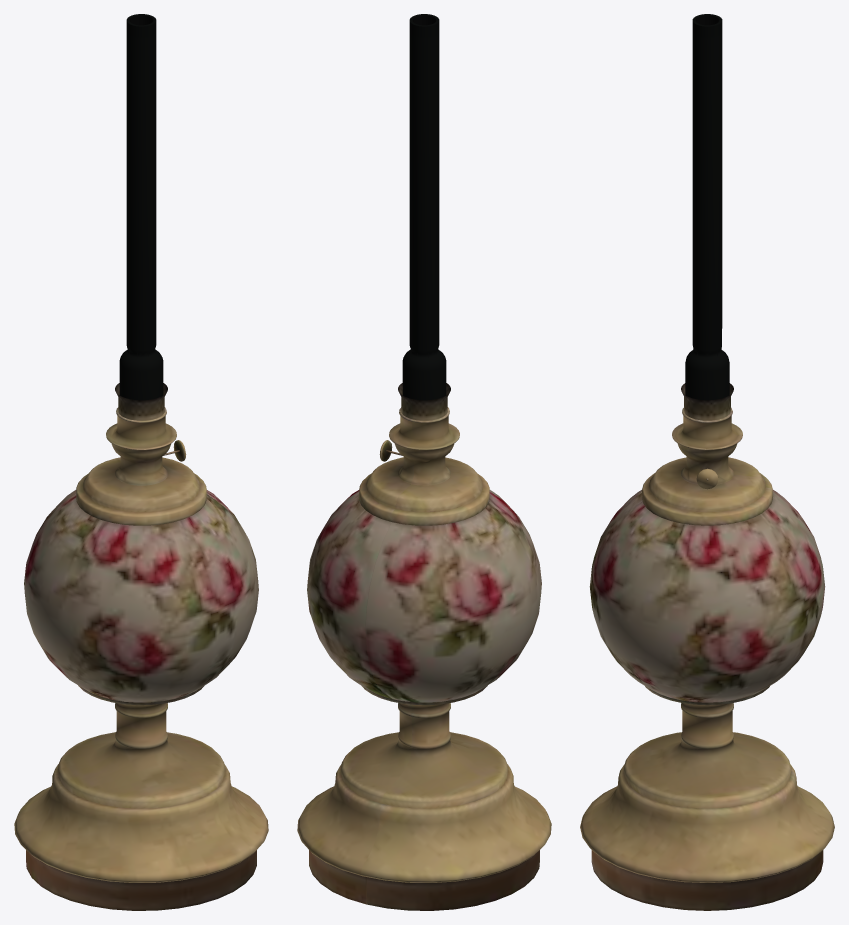
File: oil-lamp.glb
3 views of the same model, side by side, from view 1: azimuth 30°, elevation 25°; view 2: azimuth 150°, elevation 25°; view 3: azimuth 270°, elevation 25° (orthographic).
Visible parts, largest first — view 1: vintage_oil_lamp, vintage_oil_lamp_glass; view 2: vintage_oil_lamp, vintage_oil_lamp_glass; view 3: vintage_oil_lamp, vintage_oil_lamp_glass.
Boxes of the visible parts, left/top/right/bottom form: vintage_oil_lamp: left=14, top=407, right=268, bottom=910; vintage_oil_lamp_glass: left=115, top=14, right=167, bottom=420; vintage_oil_lamp: left=297, top=407, right=551, bottom=910; vintage_oil_lamp_glass: left=398, top=14, right=450, bottom=420; vintage_oil_lamp: left=580, top=407, right=834, bottom=910; vintage_oil_lamp_glass: left=681, top=14, right=733, bottom=420.
Size of the model in its own units: 0.22 by 0.8016 by 0.22.
Materials: 3 (3 with a texture image).
